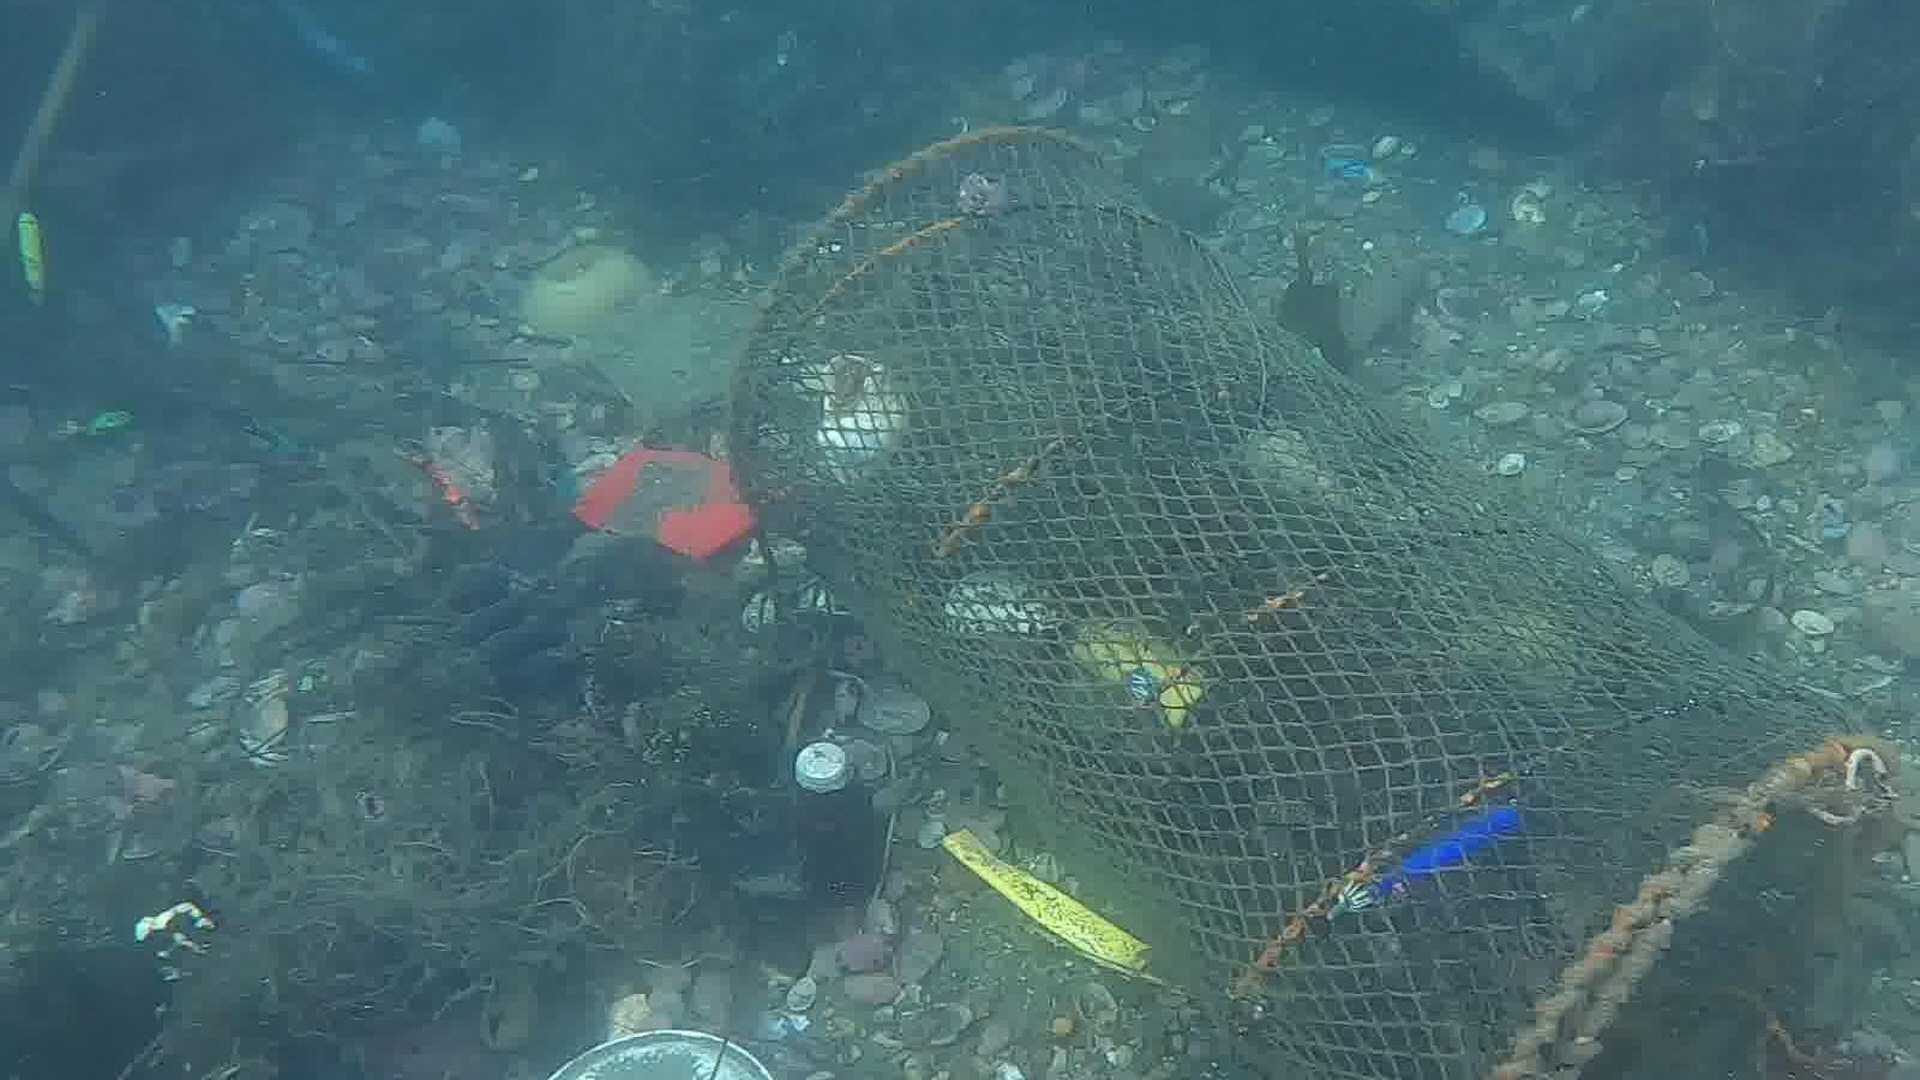spring fish trap: (728, 123, 1917, 1080)
